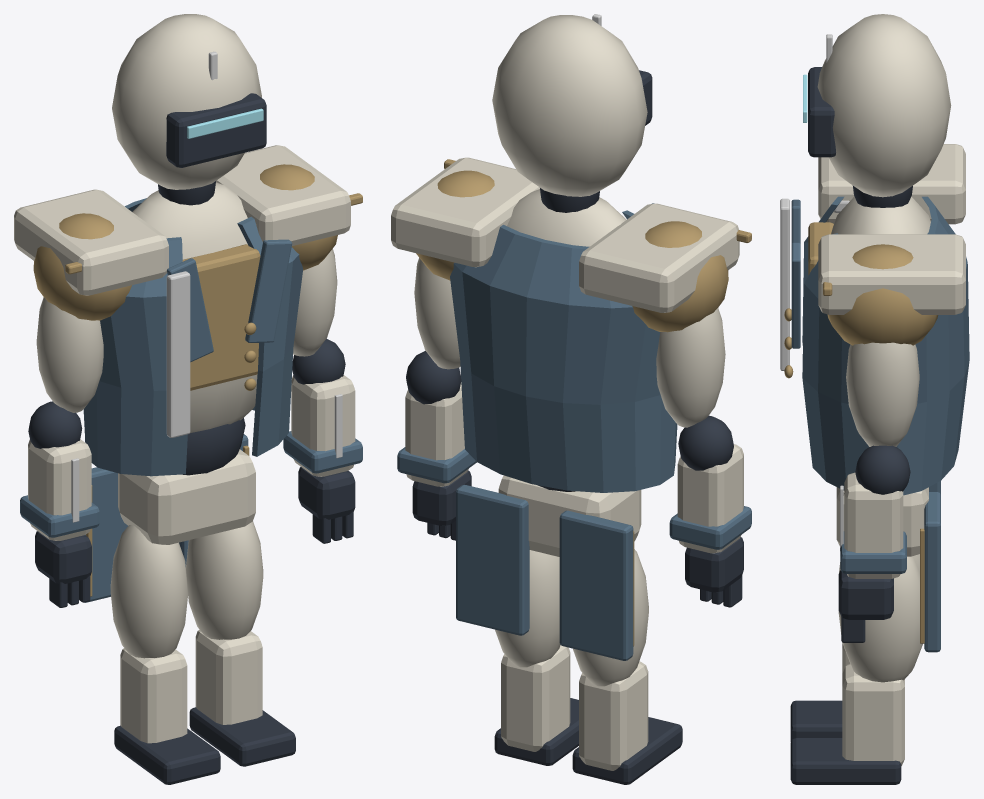
File: henry.glb
The picture shows the model from 3 angles, left to right: view 1: azimuth 30°, elevation 25°; view 2: azimuth 150°, elevation 25°; view 3: azimuth 270°, elevation 25°; orthographic projection. The views are drawn at different scales.
Visible parts, largest first — view 1: Ambassador frock, Helmet, Ceremonial layered mantle, Pelvis, Thigh R, Articulated thorax, Ceremonial layered mantle.001, Thigh L, Sternum shield, Upper arm R, Shin L, Shin R (+21 smaller); view 2: Ambassador frock, Helmet, Ceremonial layered mantle, Ambassador frock articulated skirt R, Ambassador frock articulated skirt L, Ceremonial layered mantle.001, Upper arm R, Shin R, Shin L, Pelvis, Bracer R, Thigh L (+15 smaller); view 3: Helmet, Ambassador frock, Ceremonial layered mantle.001, Upper arm L, Shoulder L, Shin L, Thigh L, Ceremonial layered mantle, Bracer L, Foot L, Articulated thorax, Ambassador frock articulated skirt L (+13 smaller).
Boxes of the visible parts, x1,y1,x2,y2 form: Ambassador frock: (83, 198, 303, 476); Helmet: (112, 14, 261, 189); Ceremonial layered mantle: (14, 189, 168, 295); Pelvis: (118, 449, 255, 544); Thigh R: (110, 525, 187, 658); Articulated thorax: (132, 182, 257, 432); Ceremonial layered mantle.001: (216, 145, 350, 245); Thigh L: (186, 521, 263, 639); Sternum shield: (182, 244, 260, 390); Upper arm R: (36, 297, 103, 412); Shin L: (195, 630, 262, 724); Shin R: (120, 648, 187, 743); Ambassador frock: (450, 210, 677, 492); Helmet: (492, 15, 647, 196); Ceremonial layered mantle: (579, 203, 739, 312); Ambassador frock articulated skirt R: (559, 510, 633, 660); Ambassador frock articulated skirt L: (456, 484, 529, 635); Ceremonial layered mantle.001: (391, 157, 539, 267); Upper arm R: (656, 308, 725, 427); Shin R: (579, 661, 648, 770); Shin L: (501, 645, 570, 751); Pelvis: (498, 475, 641, 556); Bracer R: (677, 444, 743, 553); Thigh L: (495, 550, 560, 667); Helmet: (817, 14, 951, 197); Ambassador frock: (802, 196, 969, 495); Ceremonial layered mantle.001: (818, 234, 965, 314); Upper arm L: (846, 342, 919, 446); Shoulder L: (827, 244, 938, 345); Shin L: (842, 664, 904, 765); Thigh L: (838, 556, 922, 682); Ceremonial layered mantle: (818, 144, 965, 224); Bracer L: (844, 472, 903, 578); Foot L: (790, 738, 901, 784); Articulated thorax: (831, 196, 930, 234); Ambassador frock articulated skirt L: (924, 492, 940, 652).
Size of the model in its own units: 1 by 2.2 by 0.513.
